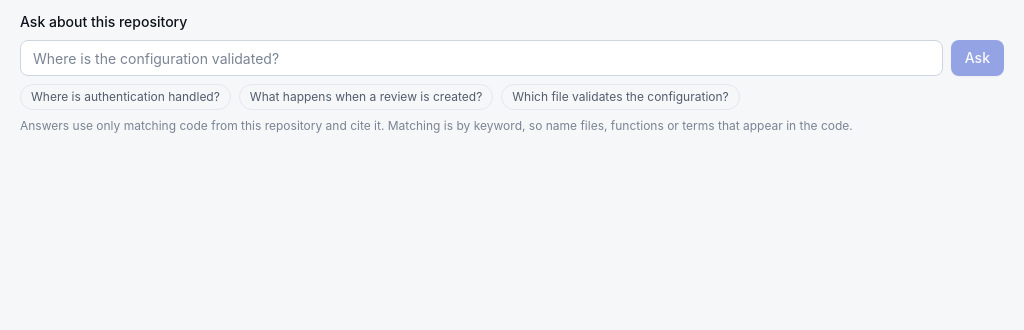
Test: repository Q&A › shows the honest message and matching files when no answer was generated
This screenshot has width=1024, height=330.
Type "Where is the discount applied?" into the field labelled "Ask about this repository" at (481, 58), box 20,40 -> 943,76
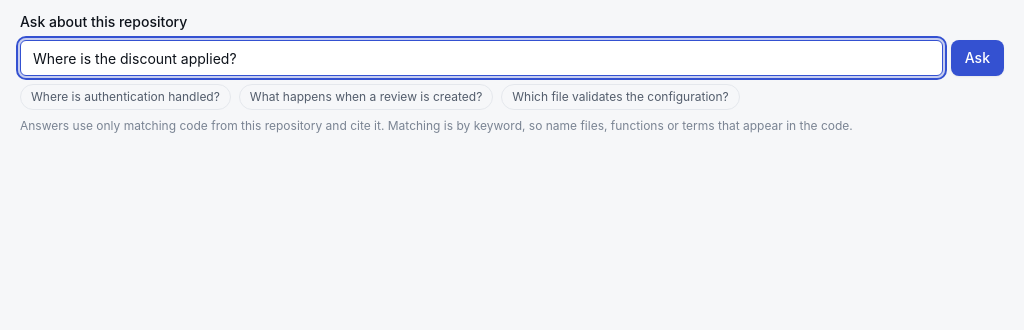
Click the button "Ask" at (977, 58), box 951,40 -> 1004,76
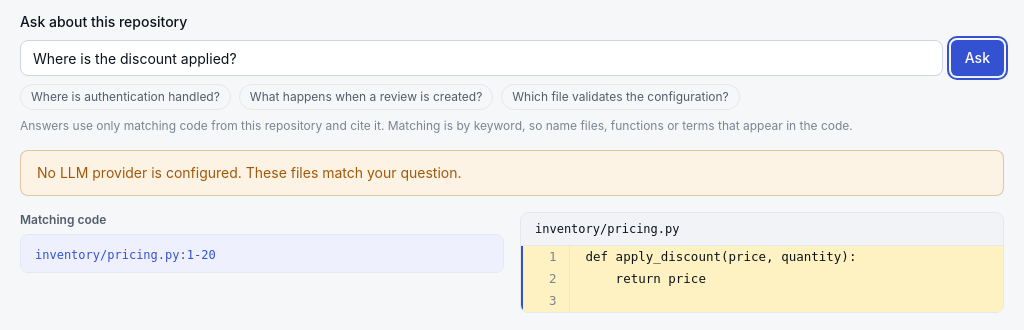
Expected: the text "No LLM provider is configured" is shown, 37,164 -> 462,181
Expected: the heading "Matching code" is shown, 20,212 -> 106,227
